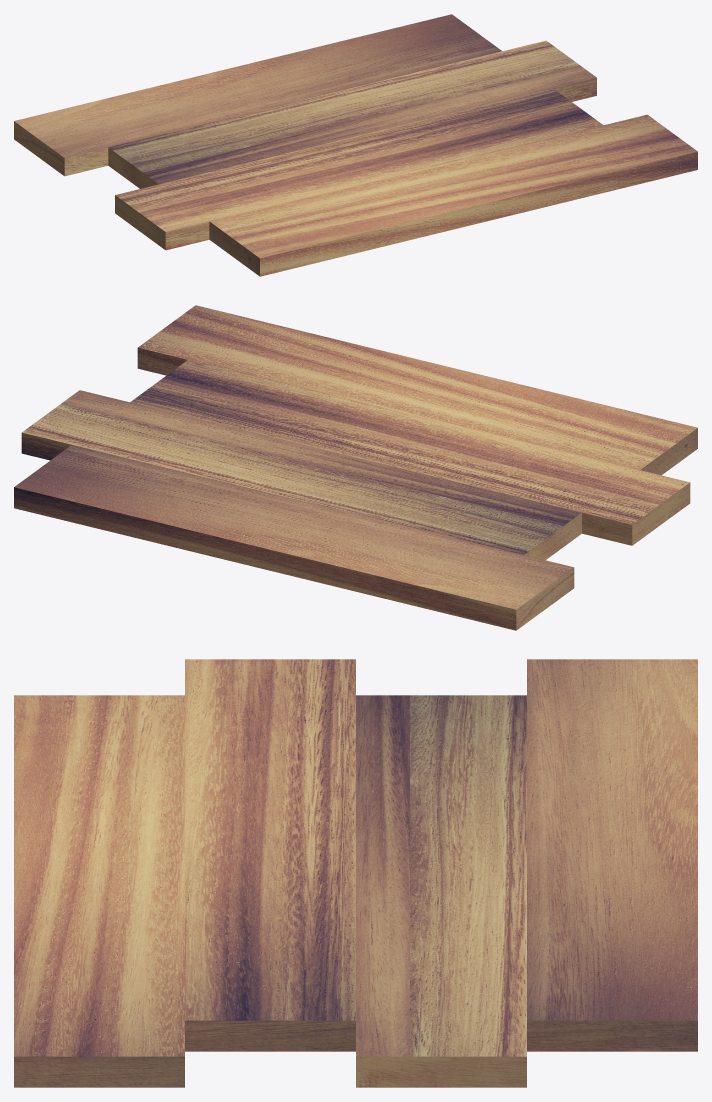
File: wood 1.fbx
3 renders of one model, top to bottom at view 1: azimuth 30°, elevation 25°; view 2: azimuth 150°, elevation 25°; view 3: azimuth 270°, elevation 25°, orthographic. The views are drawn at different scales.
Parts seen in each view (by area): view 1: 立方體.003; view 2: 立方體.003; view 3: 立方體.003.
Boxes of the visible parts, x1=… form: 立方體.003: x1=14, y1=14, x2=697, y2=276; 立方體.003: x1=14, y1=305, x2=697, y2=630; 立方體.003: x1=14, y1=659, x2=697, y2=1087.
Size of the model in its own units: 1100 by 40 by 800.
1 material, 1 textured.
